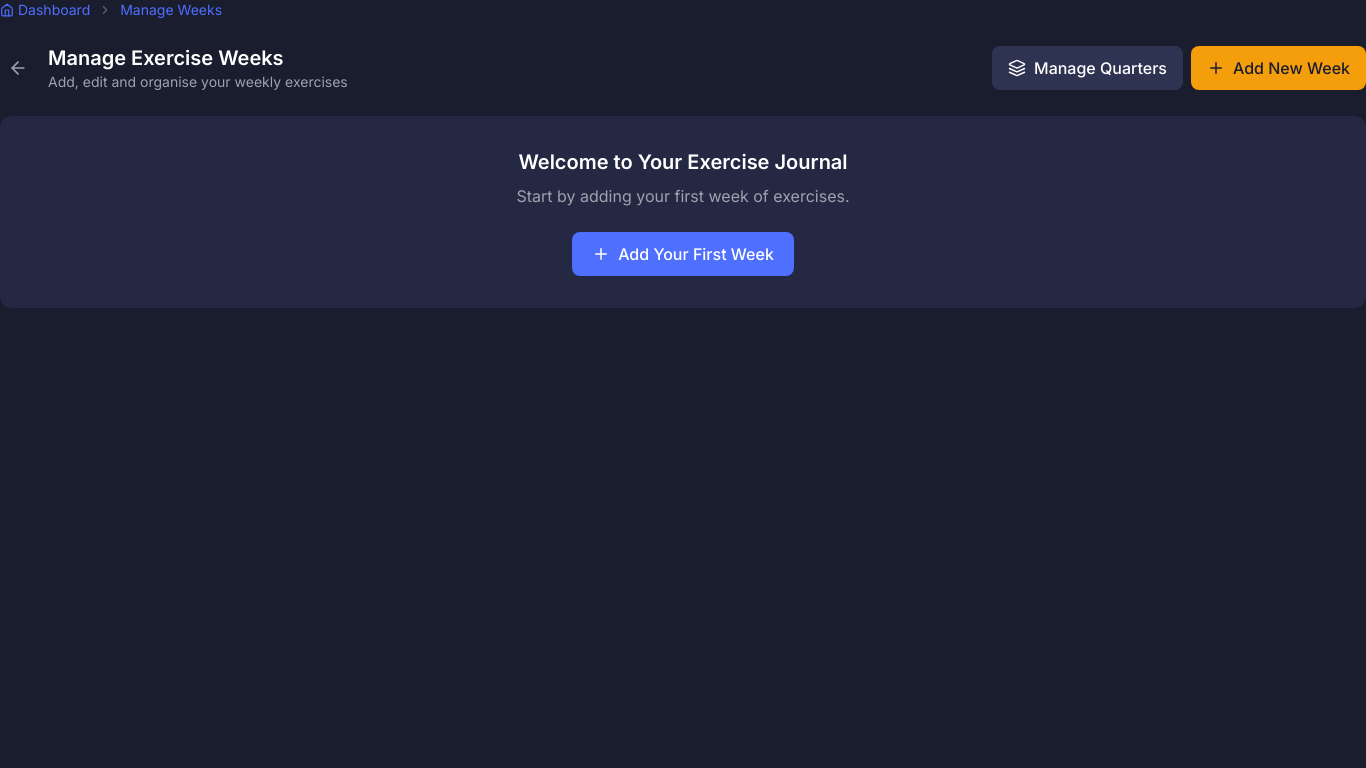
it: PowerPage › opens WeekModal when Add New Week clicked
Click the button "Add New Week". click: (1278, 68)
box: [1191, 46, 1365, 90]
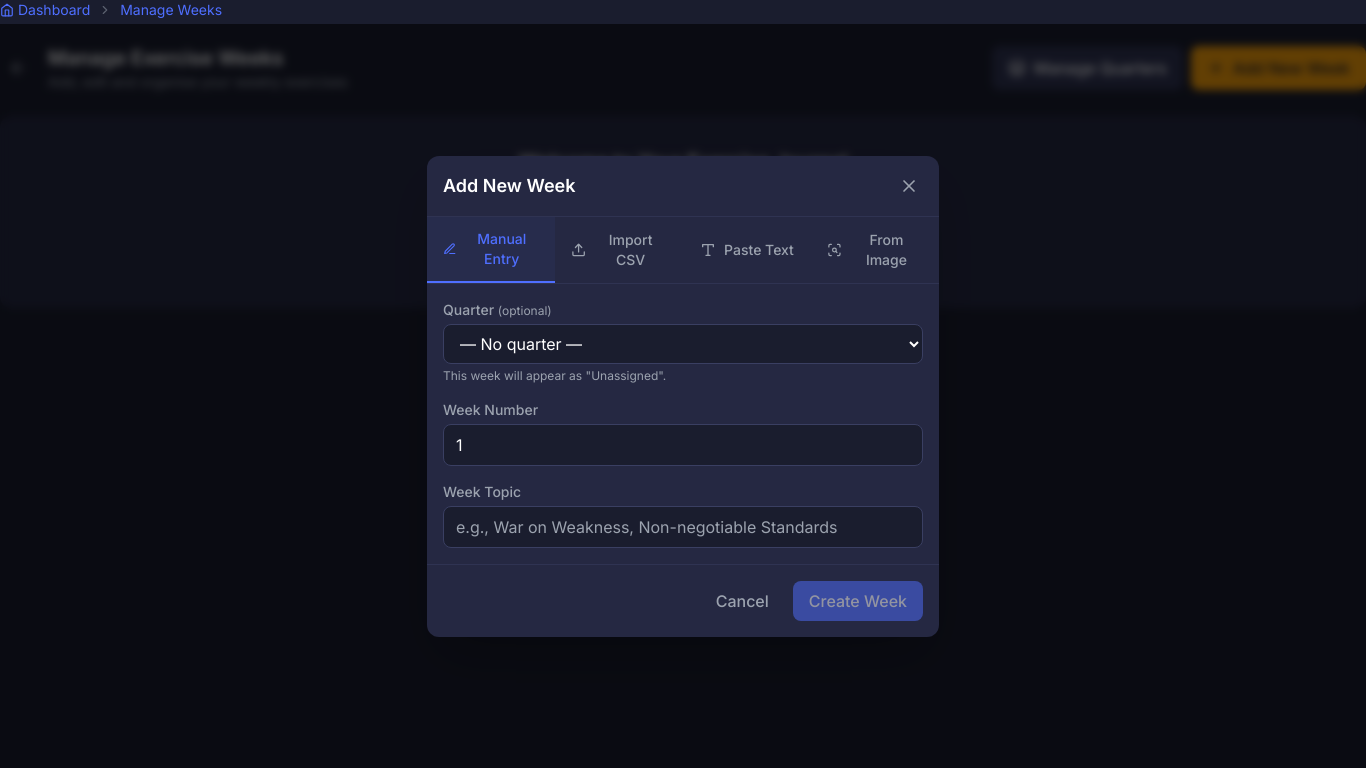
Expected: the number field is shown, [443, 424, 923, 466]
